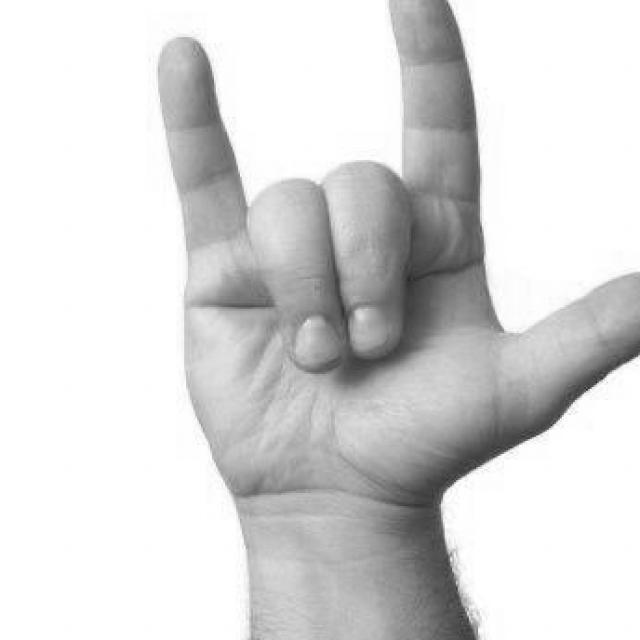i love you: (149, 0, 640, 553)
